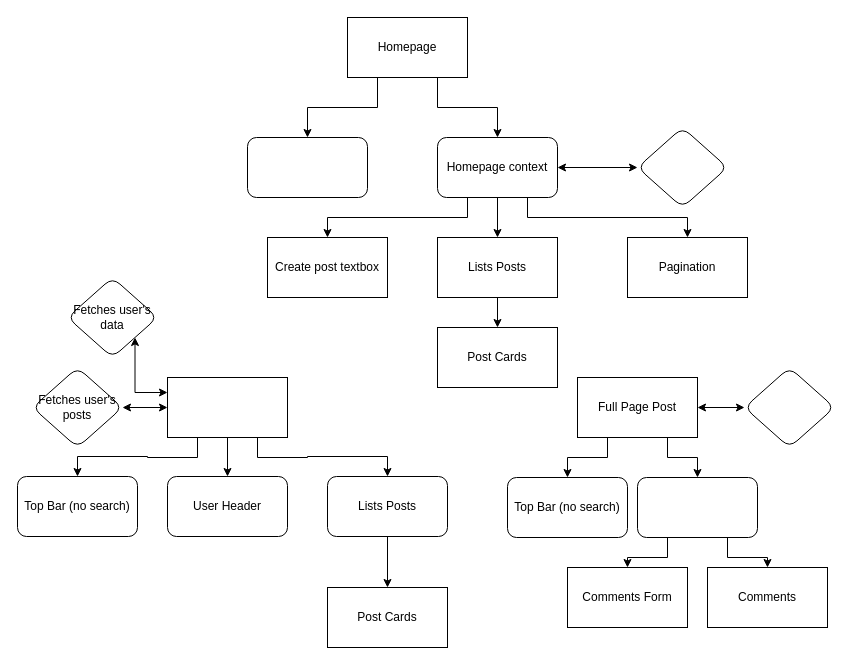
The diagram is 852 pixels wide and 665 high, and some of its shapes have lost their labels. Here are the shapes that lost their labels. From the top down, the centre of each, then its label:
At [307,167]: "Top Bar (with search)".
At [682,167]: "Fetches posts".
At [227,407]: "Account Page".
At [789,407]: "Fetches post".
At [697,507]: "Full Post".
